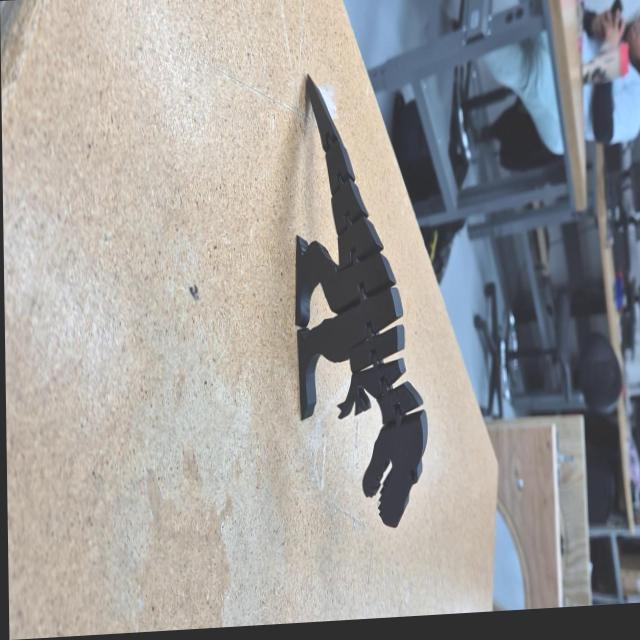dino: (291, 64, 430, 534)
